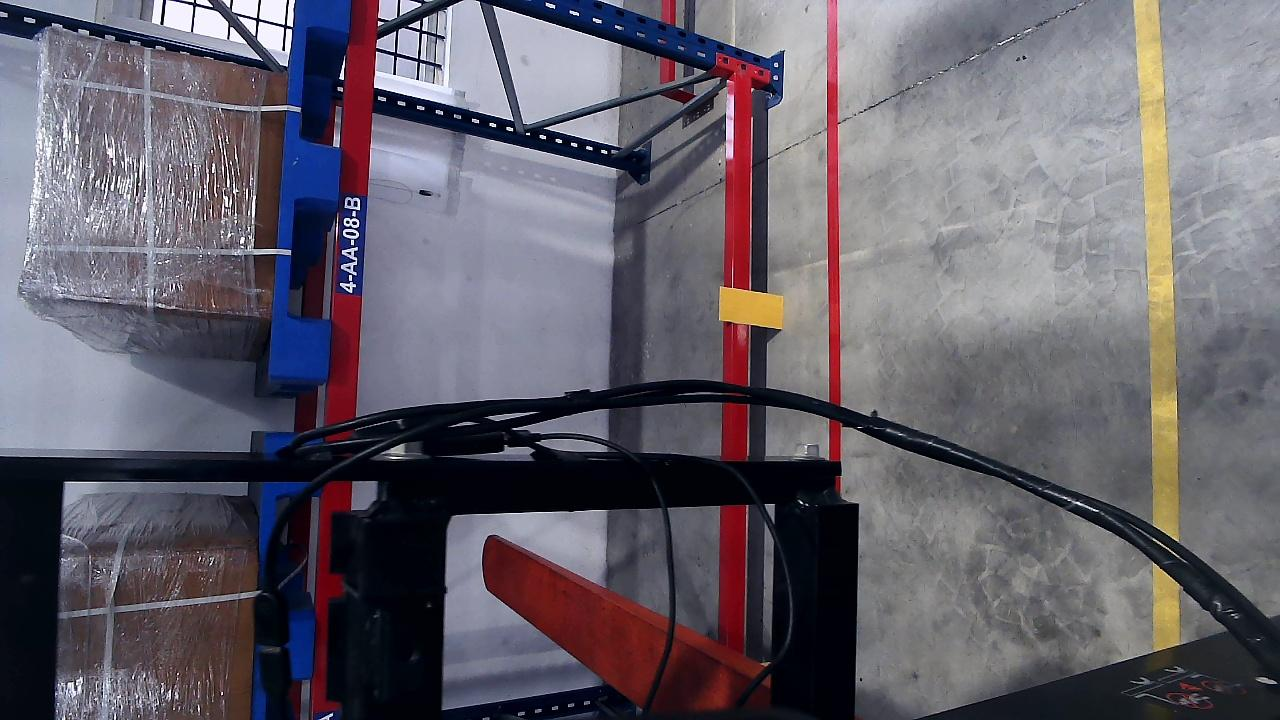h_rack: (712, 82, 757, 718), (322, 0, 383, 423)
orange_strip: (719, 285, 784, 328)
red_line: (822, 0, 844, 402)
small_pallet: (271, 0, 349, 381)
yellow_line: (1135, 0, 1181, 569)
